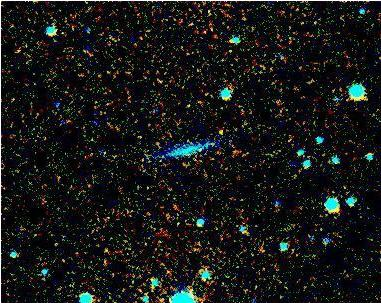star: (207, 119, 237, 149)
